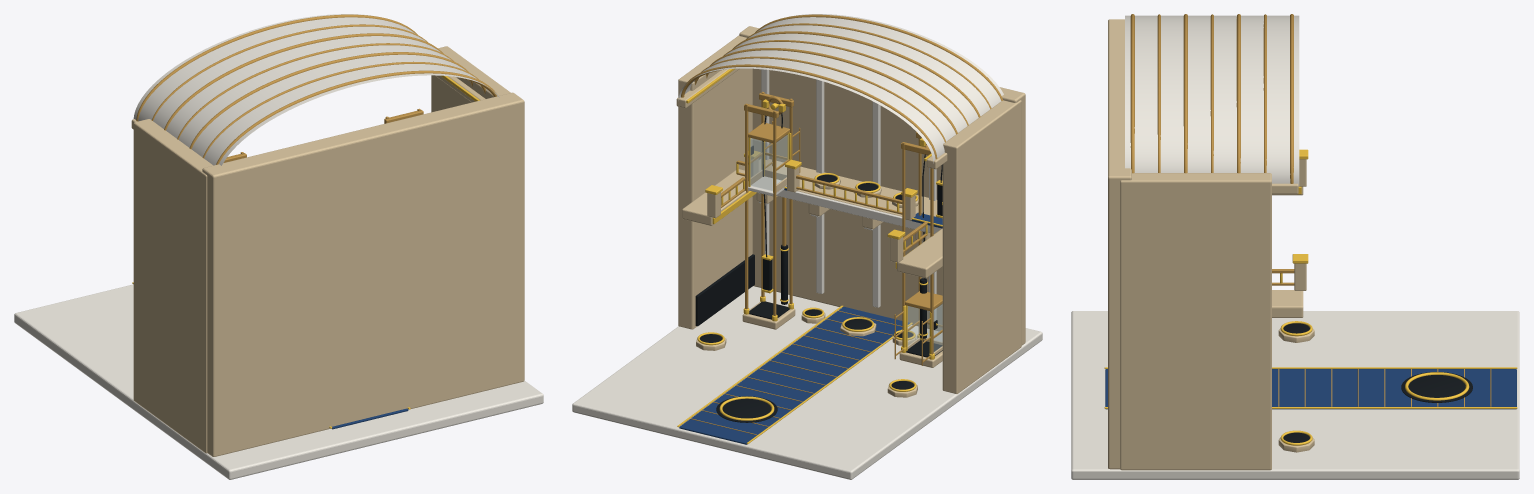
The model's file is vault-museum.glb.
3 views of the same model, side by side, from view 1: azimuth 30°, elevation 25°; view 2: azimuth 150°, elevation 25°; view 3: azimuth 270°, elevation 25° (orthographic). The views are drawn at different scales.
Parts seen in each view (by area): view 1: vault-v040-monumental-rear-honey-limestone-wall, vault-v040-right-honey-limestone-side-return, vault-v040-pearl-marble-barrel-vault-shell, vault-v040-continuous-pearl-marble-floor, vault-v040-left-honey-limestone-side-return, vault-v040-barrel-vault-brushed-brass-rib-01, vault-v040-barrel-vault-brushed-brass-rib-07, vault-v040-barrel-vault-brushed-brass-rib-03, vault-v040-barrel-vault-brushed-brass-rib-05, vault-v040-barrel-vault-brushed-brass-rib-02, vault-v040-barrel-vault-brushed-brass-rib-06, vault-v040-barrel-vault-brushed-brass-rib-04; view 2: vault-v040-continuous-pearl-marble-floor, vault-v040-monumental-rear-honey-limestone-wall, vault-v040-right-honey-limestone-side-return, vault-v040-pearl-marble-barrel-vault-shell, vault-v040-left-honey-limestone-side-return, vault-v040-restrained-lapis-processional-route-2p35-wide, vault-v040-left-royal-hydraulic-lift-continuous-brushed-bras (×3), vault-v040-thick-u-mezzanine-rear-deck, vault-v040-left-onyx-wall-sockle, vault-v040-rear-wall-pearl-marble-vertical-order.001, vault-v040-rear-wall-pearl-marble-vertical-order.002, vault-v040-rear-deck-pearl-marble-front-fascia (+17 smaller); view 3: vault-v040-left-honey-limestone-side-return, vault-v040-continuous-pearl-marble-floor, vault-v040-pearl-marble-barrel-vault-shell, vault-v040-restrained-lapis-processional-route-2p35-wide, vault-v040-monumental-rear-honey-limestone-wall, vault-v040-unobstructed-inspection-destination-onyx-inlay, vault-v040-thick-u-mezzanine-left-gallery-return, vault-v040-barrel-vault-brushed-brass-rib-01, vault-v040-barrel-vault-brushed-brass-rib-03, vault-v040-barrel-vault-brushed-brass-rib-05, vault-v040-barrel-vault-brushed-brass-rib-07, vault-v040-barrel-vault-brushed-brass-rib-02 (+5 smaller).
Boxes of the visible parts, bbox=[...] form: vault-v040-monumental-rear-honey-limestone-wall: bbox=[202, 92, 524, 456]; vault-v040-right-honey-limestone-side-return: bbox=[133, 119, 212, 453]; vault-v040-pearl-marble-barrel-vault-shell: bbox=[133, 14, 499, 165]; vault-v040-continuous-pearl-marble-floor: bbox=[14, 284, 543, 479]; vault-v040-left-honey-limestone-side-return: bbox=[431, 46, 510, 112]; vault-v040-barrel-vault-brushed-brass-rib-01: bbox=[216, 70, 496, 164]; vault-v040-barrel-vault-brushed-brass-rib-07: bbox=[136, 14, 417, 121]; vault-v040-barrel-vault-brushed-brass-rib-03: bbox=[189, 52, 472, 149]; vault-v040-barrel-vault-brushed-brass-rib-05: bbox=[164, 33, 443, 130]; vault-v040-barrel-vault-brushed-brass-rib-02: bbox=[202, 61, 485, 158]; vault-v040-barrel-vault-brushed-brass-rib-06: bbox=[151, 24, 427, 120]; vault-v040-barrel-vault-brushed-brass-rib-04: bbox=[177, 43, 453, 139]; vault-v040-continuous-pearl-marble-floor: bbox=[572, 286, 1042, 479]; vault-v040-monumental-rear-honey-limestone-wall: bbox=[739, 26, 1025, 345]; vault-v040-right-honey-limestone-side-return: bbox=[942, 100, 1021, 393]; vault-v040-pearl-marble-barrel-vault-shell: bbox=[678, 14, 1003, 163]; vault-v040-left-honey-limestone-side-return: bbox=[678, 35, 752, 329]; vault-v040-restrained-lapis-processional-route-2p35-wide: bbox=[679, 307, 909, 444]; vault-v040-left-royal-hydraulic-lift-continuous-brushed-bras (×3): bbox=[745, 98, 792, 316]; vault-v040-thick-u-mezzanine-rear-deck: bbox=[743, 159, 937, 216]; vault-v040-left-onyx-wall-sockle: bbox=[695, 254, 754, 326]; vault-v040-rear-wall-pearl-marble-vertical-order.001: bbox=[816, 79, 824, 293]; vault-v040-rear-wall-pearl-marble-vertical-order.002: bbox=[872, 101, 880, 307]; vault-v040-rear-deck-pearl-marble-front-fascia: bbox=[776, 190, 941, 233]; vault-v040-left-honey-limestone-side-return: bbox=[1120, 173, 1271, 470]; vault-v040-continuous-pearl-marble-floor: bbox=[1071, 311, 1519, 479]; vault-v040-pearl-marble-barrel-vault-shell: bbox=[1125, 15, 1299, 186]; vault-v040-restrained-lapis-processional-route-2p35-wide: bbox=[1105, 369, 1516, 409]; vault-v040-monumental-rear-honey-limestone-wall: bbox=[1108, 19, 1131, 469]; vault-v040-unobstructed-inspection-destination-onyx-inlay: bbox=[1401, 372, 1472, 402]; vault-v040-thick-u-mezzanine-left-gallery-return: bbox=[1272, 290, 1303, 317]; vault-v040-barrel-vault-brushed-brass-rib-01: bbox=[1130, 14, 1134, 173]; vault-v040-barrel-vault-brushed-brass-rib-03: bbox=[1183, 14, 1187, 173]; vault-v040-barrel-vault-brushed-brass-rib-05: bbox=[1236, 14, 1240, 173]; vault-v040-barrel-vault-brushed-brass-rib-07: bbox=[1290, 14, 1293, 183]; vault-v040-barrel-vault-brushed-brass-rib-02: bbox=[1157, 14, 1160, 172].
Size of the model in its own units: 9.7 by 10.02 by 11.5.
